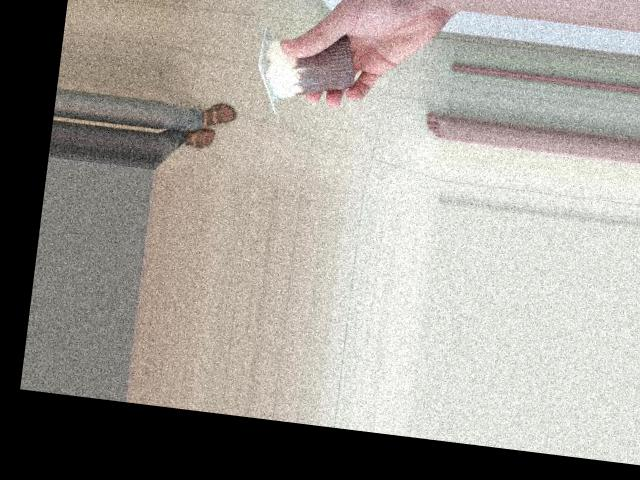milky: (252, 22, 371, 114)
